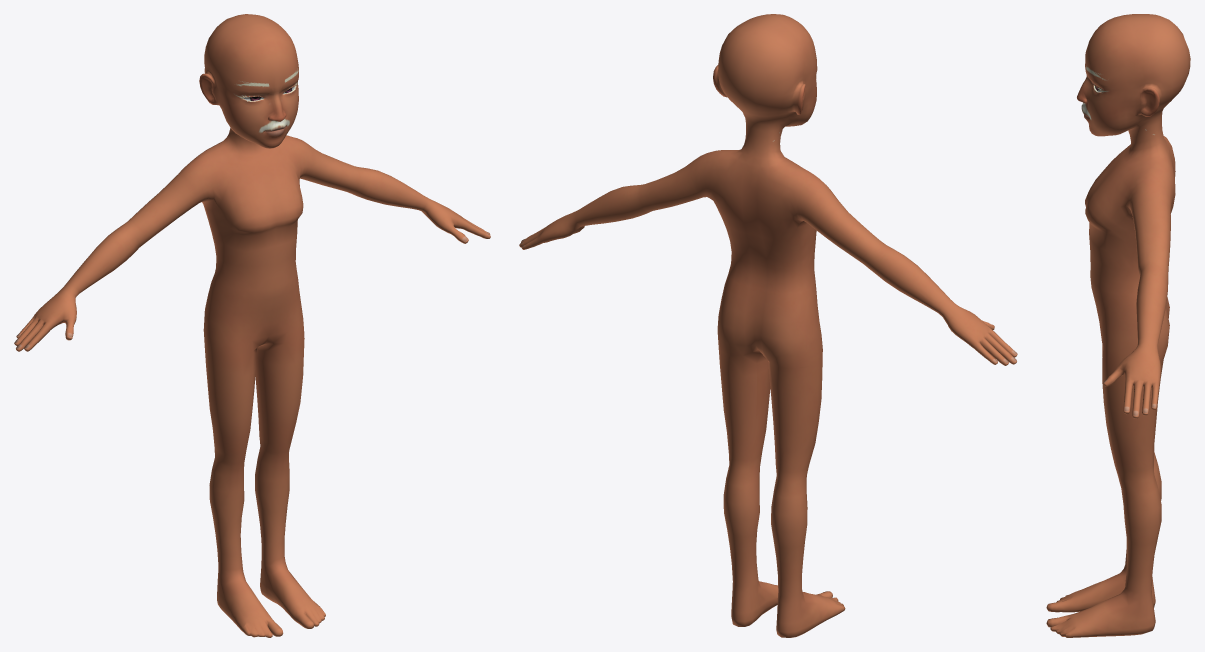
The model's file is frame_0021.glb.
3 views of the same model, side by side, from view 1: azimuth 30°, elevation 25°; view 2: azimuth 150°, elevation 25°; view 3: azimuth 270°, elevation 25° (orthographic). The views are drawn at different scales.
Visible parts, largest first — view 1: frame_0021_head_geo; view 2: frame_0021_head_geo; view 3: frame_0021_head_geo.
Part boxes in pixels (bbox=[...]): frame_0021_head_geo: bbox=[14, 14, 490, 637]; frame_0021_head_geo: bbox=[519, 14, 1017, 637]; frame_0021_head_geo: bbox=[1046, 14, 1190, 637].
Bounding box in the file's own units: 1.28 × 1.5 × 0.3253.
3 materials, 3 textured.
